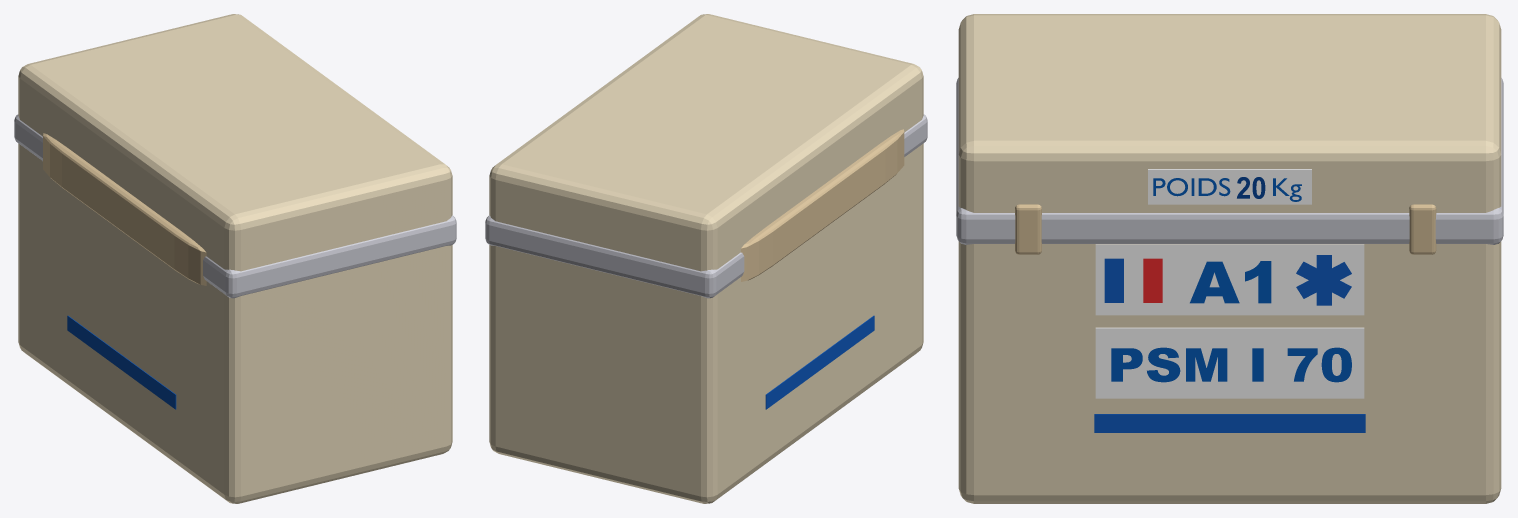
File: MalleA1.fbx
The picture shows the model from 3 angles, left to right: view 1: azimuth 30°, elevation 25°; view 2: azimuth 150°, elevation 25°; view 3: azimuth 270°, elevation 25°; orthographic projection. The views are drawn at different scales.
Visible parts, largest first — view 1: Malle_PSM, Anneau, Loquet.002, Bande_Rouge; view 2: Malle_PSM, Anneau, Loquet.002, Bande_Rouge; view 3: Malle_PSM, Anneau, Etiquette_PSM, Etiquette_A3.001, Bande_Rouge, Etiquette_A3, Texte_PSM, Drabeau Blanc, Texte_A3, Samu, Loquet, Loquet.001 (+1 smaller).
Boxes of the visible parts, <box> form: Malle_PSM: <box>18,14,452,503</box>; Anneau: <box>14,114,456,298</box>; Loquet.002: <box>43,133,206,285</box>; Bande_Rouge: <box>67,315,176,409</box>; Malle_PSM: <box>489,14,923,503</box>; Anneau: <box>485,114,927,298</box>; Loquet.002: <box>741,129,904,281</box>; Bande_Rouge: <box>765,315,874,409</box>; Malle_PSM: <box>958,14,1501,503</box>; Anneau: <box>956,78,1503,244</box>; Etiquette_PSM: <box>1095,327,1364,398</box>; Etiquette_A3.001: <box>1095,244,1364,315</box>; Bande_Rouge: <box>1094,414,1365,432</box>; Etiquette_A3: <box>1148,169,1311,204</box>; Texte_PSM: <box>1111,347,1351,382</box>; Drabeau Blanc: <box>1104,258,1162,302</box>; Texte_A3: <box>1190,261,1271,303</box>; Samu: <box>1296,255,1351,305</box>; Loquet: <box>1409,204,1436,254</box>; Loquet.001: <box>1015,204,1041,254</box>.
Size of the model in its own units: 33.45 by 39 by 53.5.
